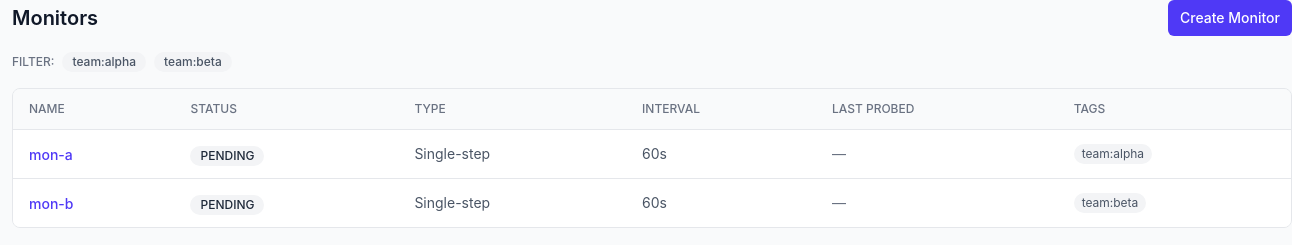
Scenario: MonitorList › filters monitors by tag
Expected: the link "mon-a" is shown, [29,146,73,163]
Expected: the link "mon-b" is shown, [29,195,74,212]
# Click the tag filter for team:alpha (first occurrence is the filter chip)
Click the button "team:alpha". click: [104, 62]
box: [62,52,146,72]
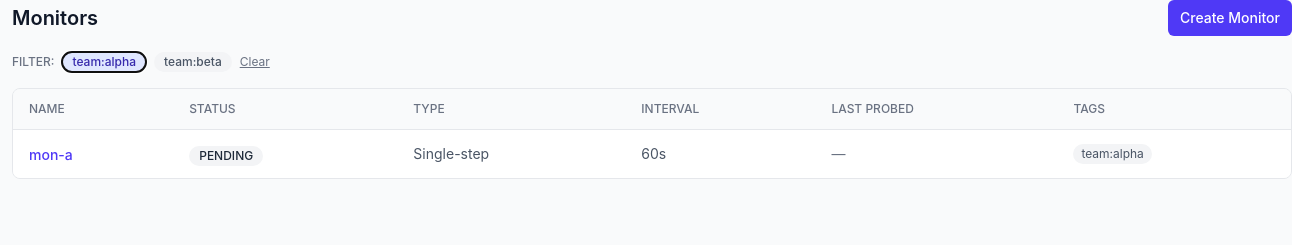
Expected: the link "mon-a" is shown, [29,146,73,163]
Now the link "mon-b" is gone
# Click clear
Click the button "Clear". click: [255, 62]
box: [240,54,270,70]
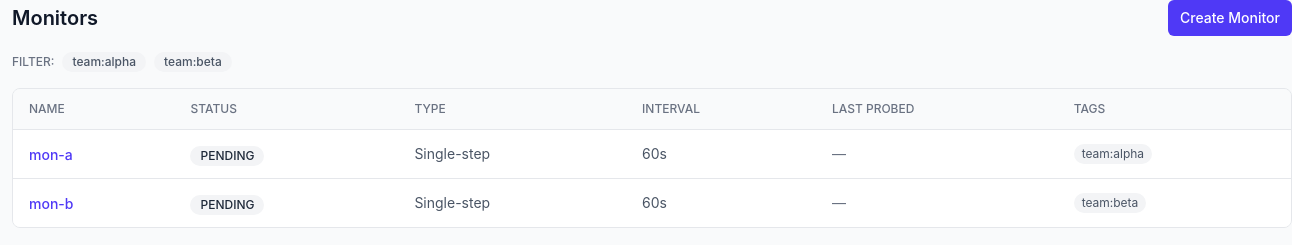
Now the link "mon-b" is shown, box [29,195,74,212]
